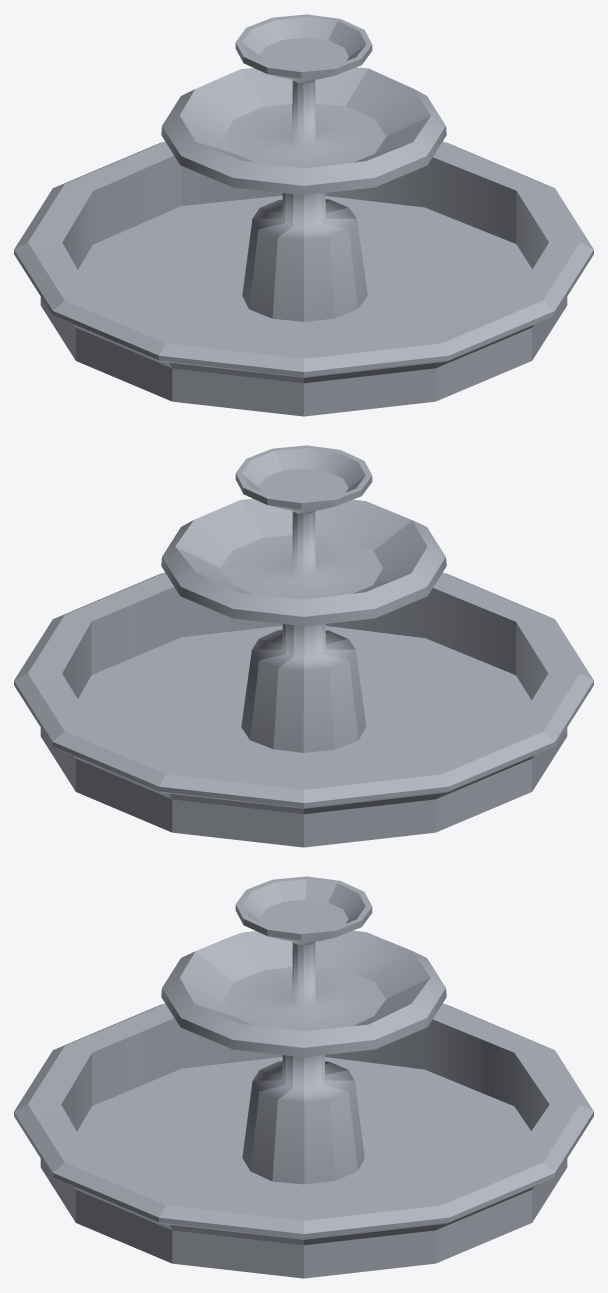
Rendered from fountain (1).fbx.
3 renders of one model, top to bottom at view 1: azimuth 30°, elevation 25°; view 2: azimuth 150°, elevation 25°; view 3: azimuth 270°, elevation 25°, orthographic.
Parts seen in each view (by area): view 1: pCylinder15; view 2: pCylinder15; view 3: pCylinder15.
Boxes of the visible parts, box(x1,y1,x2,y2) form: pCylinder15: box(14, 14, 593, 416); pCylinder15: box(14, 445, 593, 847); pCylinder15: box(14, 876, 593, 1278).
Bounding box in the file's own units: 1117 × 557 × 1117.
